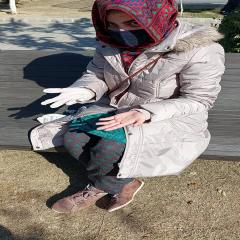gloved: (41, 88, 87, 108)
not-gloved: (96, 111, 144, 131)
